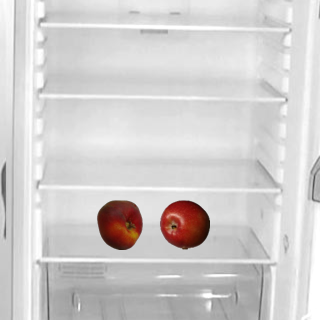Apple Braeburn: (159, 199, 209, 249)
Nectarine Flat: (94, 199, 144, 249)
